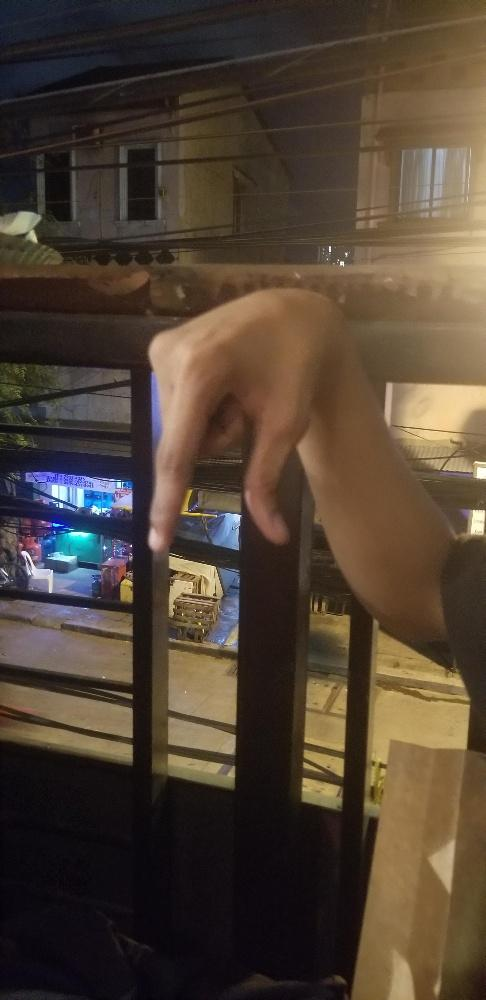q: (139, 284, 335, 551)
